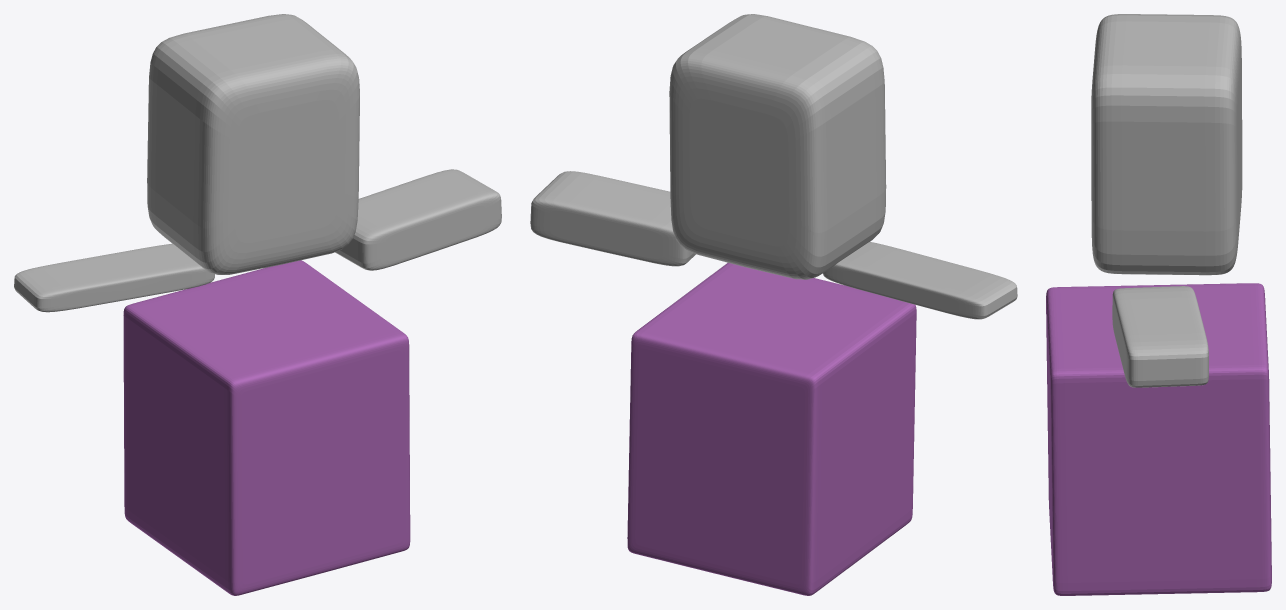
Rendered from edited_abstraction_categorized.glb.
3 renders of one model, left to right at view 1: azimuth 30°, elevation 25°; view 2: azimuth 150°, elevation 25°; view 3: azimuth 270°, elevation 25°, orthographic. The views are drawn at different scales.
Visible parts, largest first — view 1: world; view 2: world; view 3: world.
Boxes of the visible parts, box(x1,y1,x2,y2) form: world: box(14, 14, 501, 595); world: box(530, 14, 1017, 595); world: box(1046, 14, 1271, 595).
Size of the model in its own units: 0.631 by 0.6474 by 0.2619.
